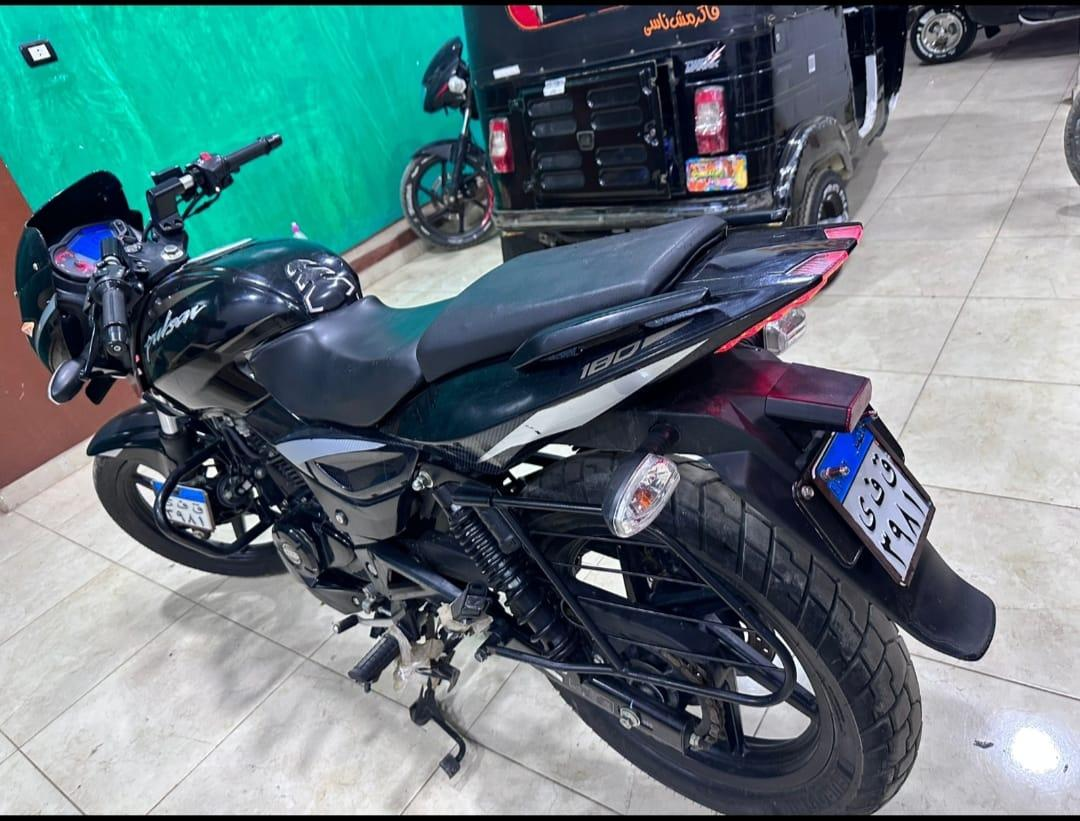License Plate: (819, 413, 938, 585), (167, 486, 214, 533)
